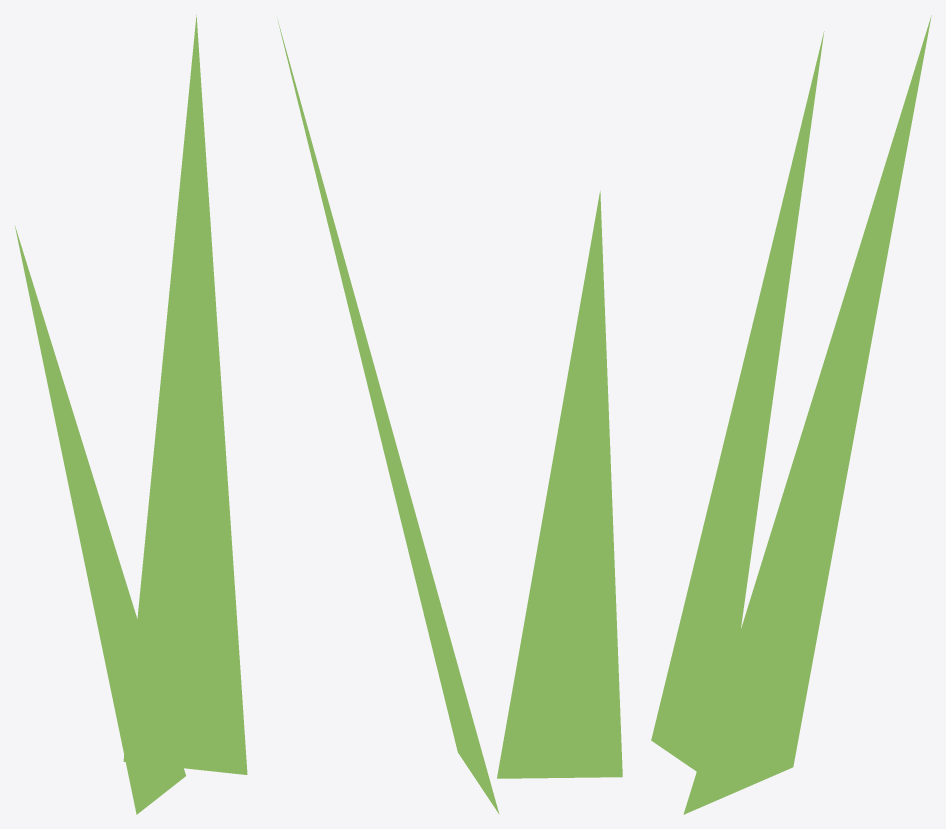
The model's file is Grass_c_OneS_01.fbx.
The picture shows the model from 3 angles, left to right: view 1: azimuth 30°, elevation 25°; view 2: azimuth 150°, elevation 25°; view 3: azimuth 270°, elevation 25°; orthographic projection. The views are drawn at different scales.
Visible parts, largest first — view 1: Grass_c_OneS_01; view 2: Grass_c_OneS_01; view 3: Grass_c_OneS_01.
Part boxes in pixels (<box>): Grass_c_OneS_01: <box>14,15,247,814</box>; Grass_c_OneS_01: <box>277,20,622,814</box>; Grass_c_OneS_01: <box>651,15,931,814</box>.
Bounding box in the file's own units: 0.1955 × 0.5587 × 0.1711.
